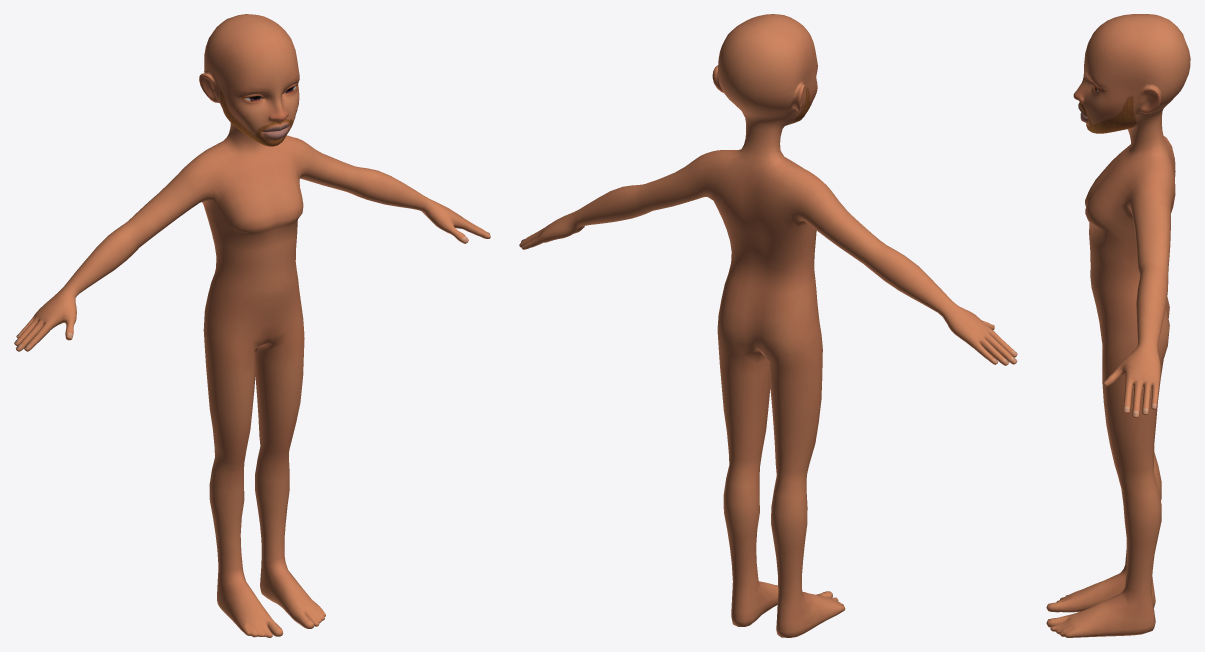
Rendered from frame_0037.glb.
3 renders of one model, left to right at view 1: azimuth 30°, elevation 25°; view 2: azimuth 150°, elevation 25°; view 3: azimuth 270°, elevation 25°, orthographic. The views are drawn at different scales.
Visible parts, largest first — view 1: frame_0037_head_geo; view 2: frame_0037_head_geo; view 3: frame_0037_head_geo.
Part boxes in pixels (bbox=[...]): frame_0037_head_geo: bbox=[14, 14, 490, 637]; frame_0037_head_geo: bbox=[519, 14, 1017, 637]; frame_0037_head_geo: bbox=[1046, 14, 1190, 637].
Size of the model in its own units: 1.28 by 1.5 by 0.3253.
3 materials, 3 textured.
